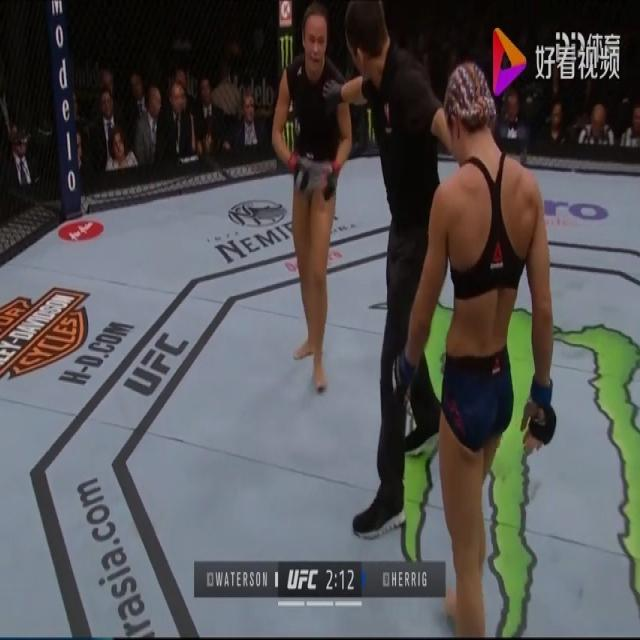fight: (271, 0, 553, 635)
non-fight: (325, 0, 470, 544)
